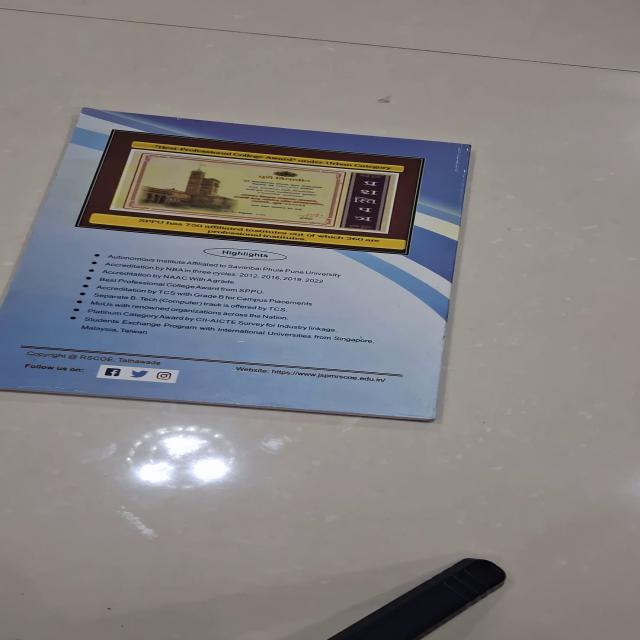paper: (1, 106, 472, 422)
